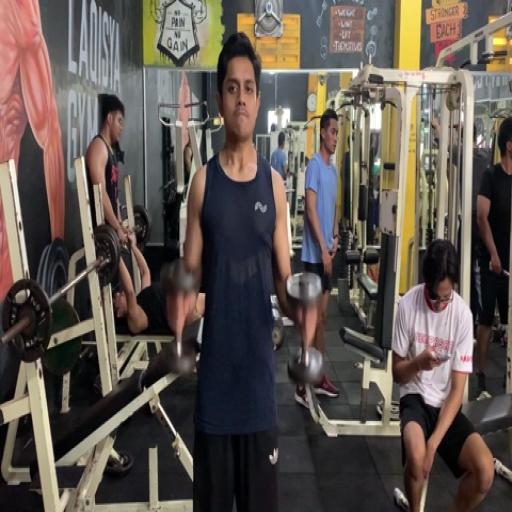exercise: (172, 30, 321, 510), (389, 236, 497, 511)
